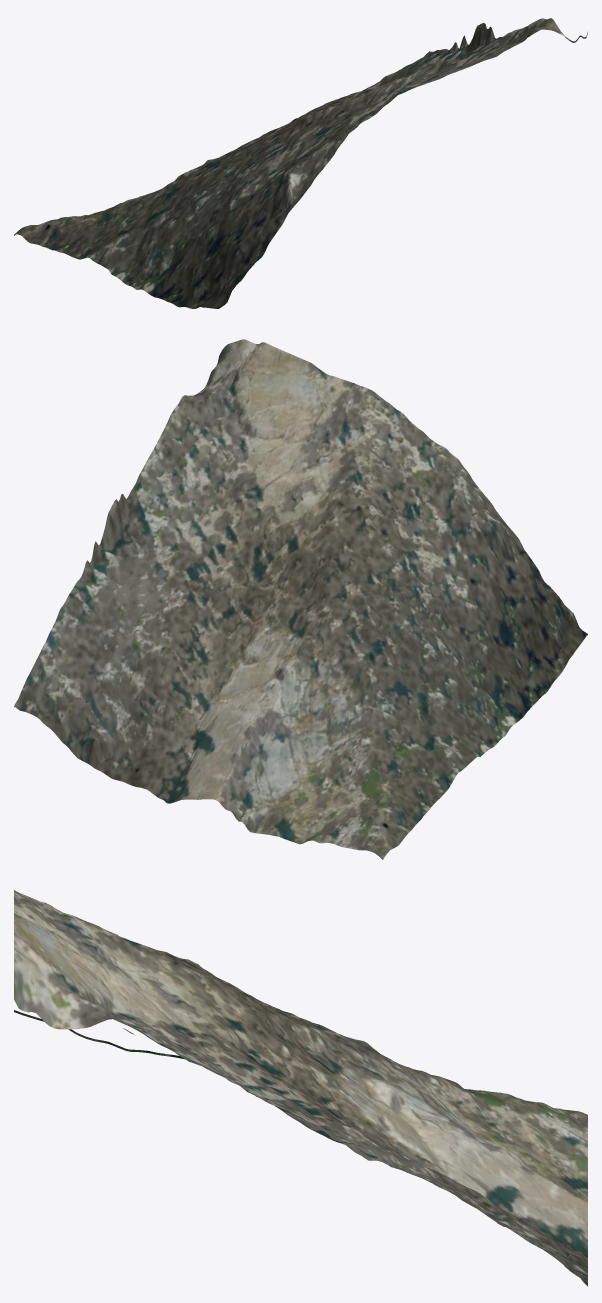
3 views of the same model, one above another, from view 1: azimuth 30°, elevation 25°; view 2: azimuth 150°, elevation 25°; view 3: azimuth 270°, elevation 25° (orthographic). The views are drawn at different scales.
Bounding box in the file's own units: 250 × 191 × 241.
Materials: 1 (1 with a texture image).
